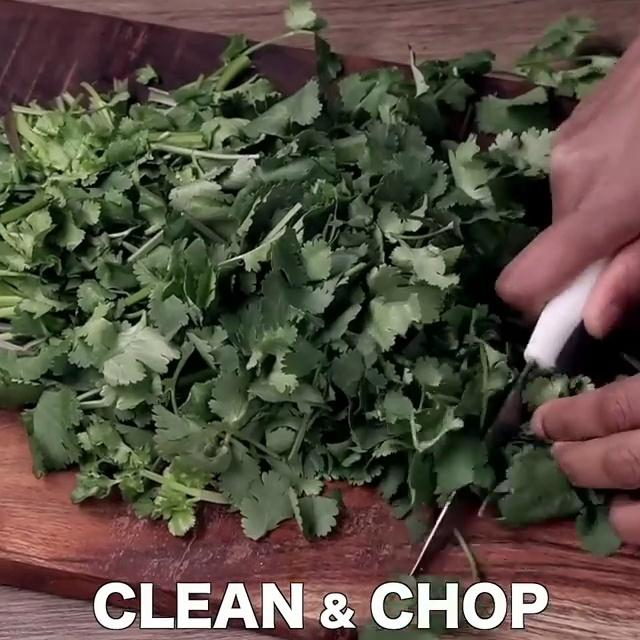cilantro: (0, 80, 474, 488)
